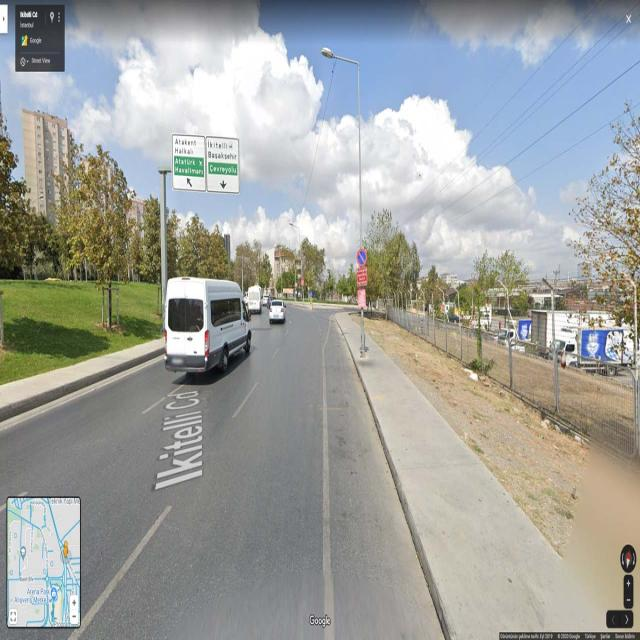parkyasak: (356, 248, 366, 264)
